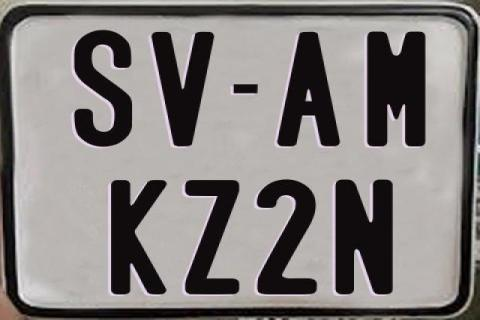0: (254, 178, 318, 294)
A: (275, 32, 343, 147)
K: (108, 178, 164, 296)
M: (367, 30, 428, 146)
N: (332, 178, 394, 294)
S: (73, 29, 135, 145)
V: (150, 32, 215, 151)
Z: (184, 180, 241, 298)
